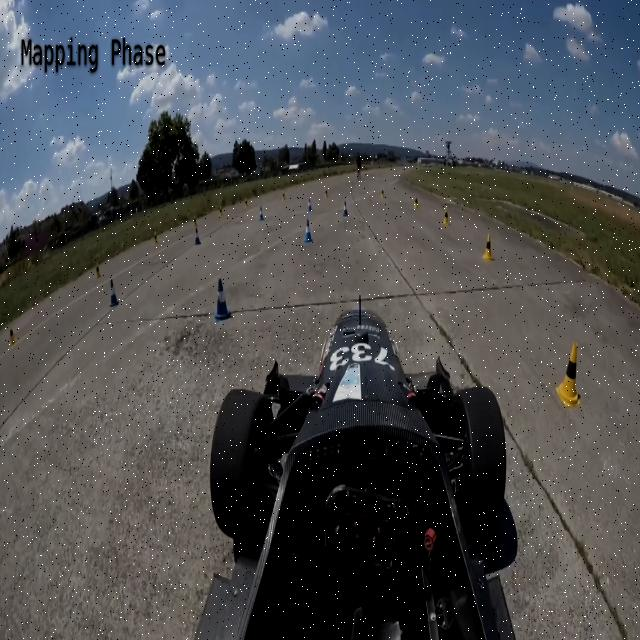blue_cone: (211, 272, 231, 323), (300, 212, 314, 246), (340, 194, 350, 222)
yellow_cone: (552, 338, 584, 407), (477, 232, 495, 262), (442, 200, 450, 230), (410, 189, 420, 211)
